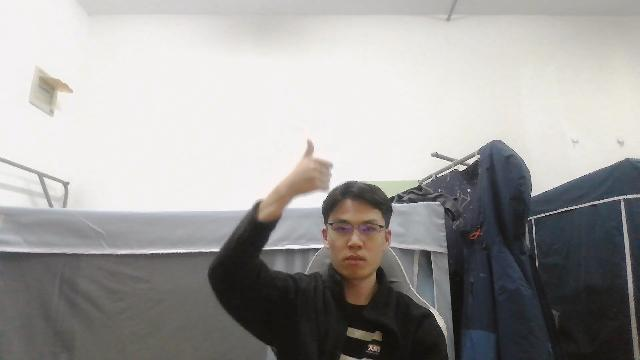good: (279, 138, 334, 197)
